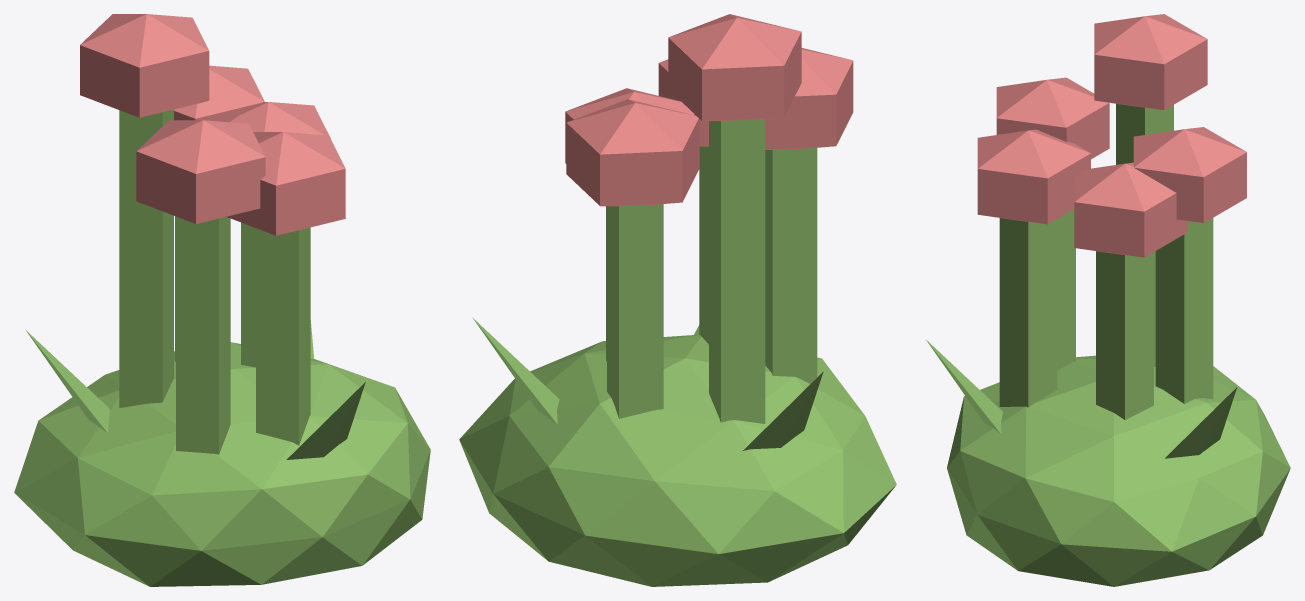
File: flower-clump-coral.glb
3 renders of one model, left to right at view 1: azimuth 30°, elevation 25°; view 2: azimuth 150°, elevation 25°; view 3: azimuth 270°, elevation 25°, orthographic. The views are drawn at different scales.
Visible parts, largest first — view 1: meadow-flower-clump-coral; view 2: meadow-flower-clump-coral; view 3: meadow-flower-clump-coral.
Boxes of the visible parts, box(x1,y1,x2,y2) form: meadow-flower-clump-coral: box(14, 14, 430, 586); meadow-flower-clump-coral: box(459, 14, 896, 586); meadow-flower-clump-coral: box(926, 14, 1290, 586).
Bounding box in the file's own units: 0.3001 × 0.3915 × 0.2782.
